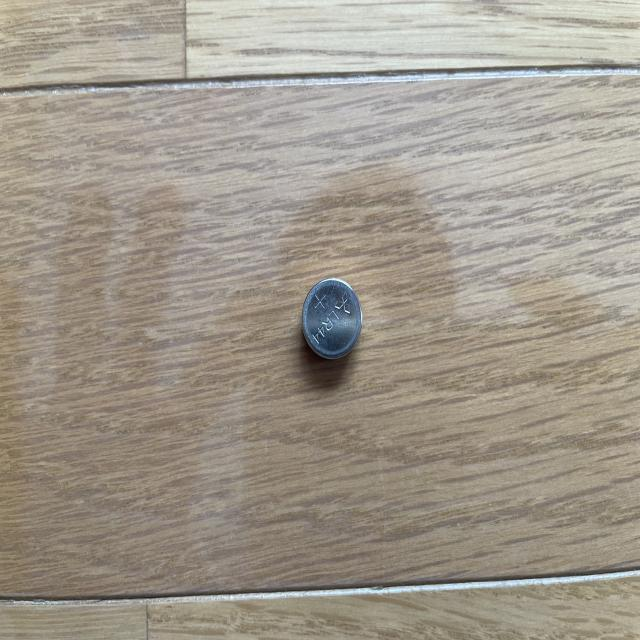COIN: (302, 278, 364, 362)
